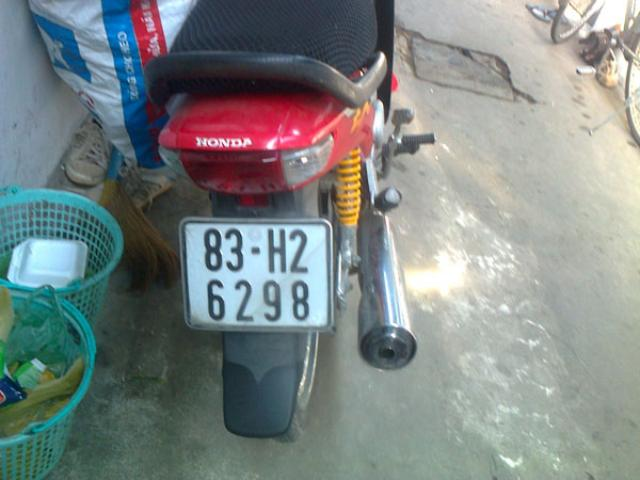plate: (190, 220, 326, 326)
